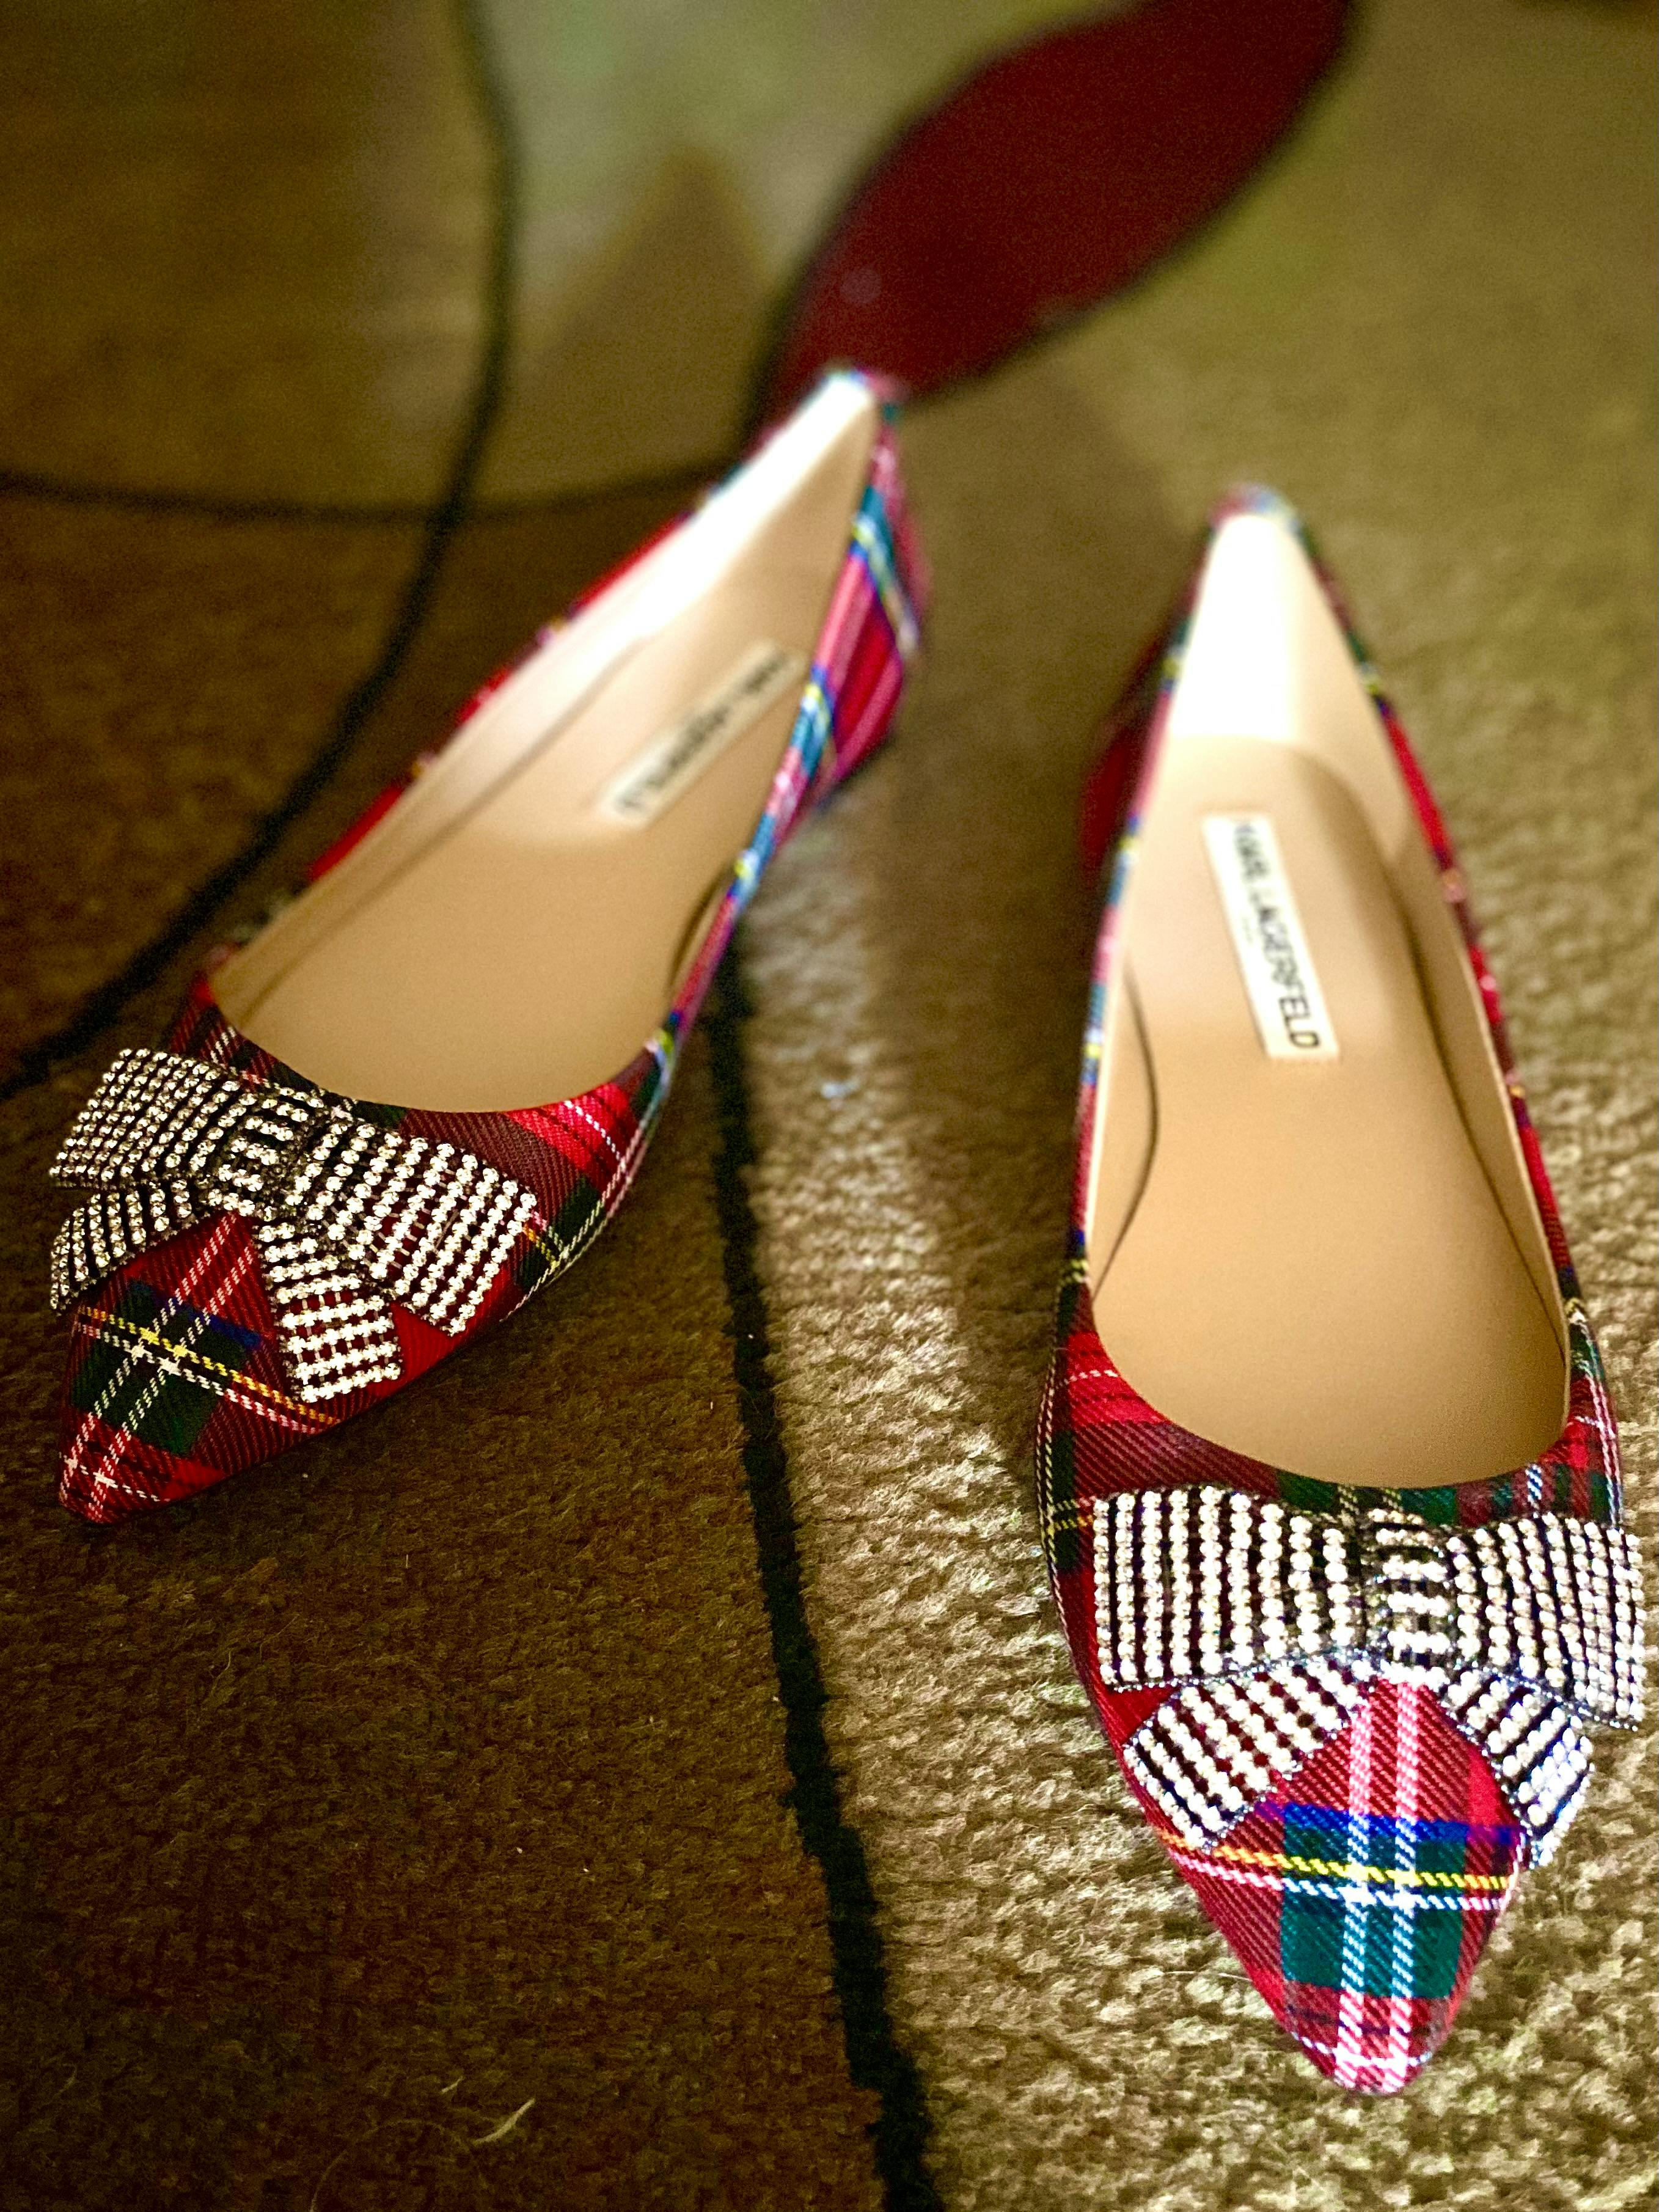Footwear: (969, 465, 1628, 2107), (58, 341, 925, 1500)
